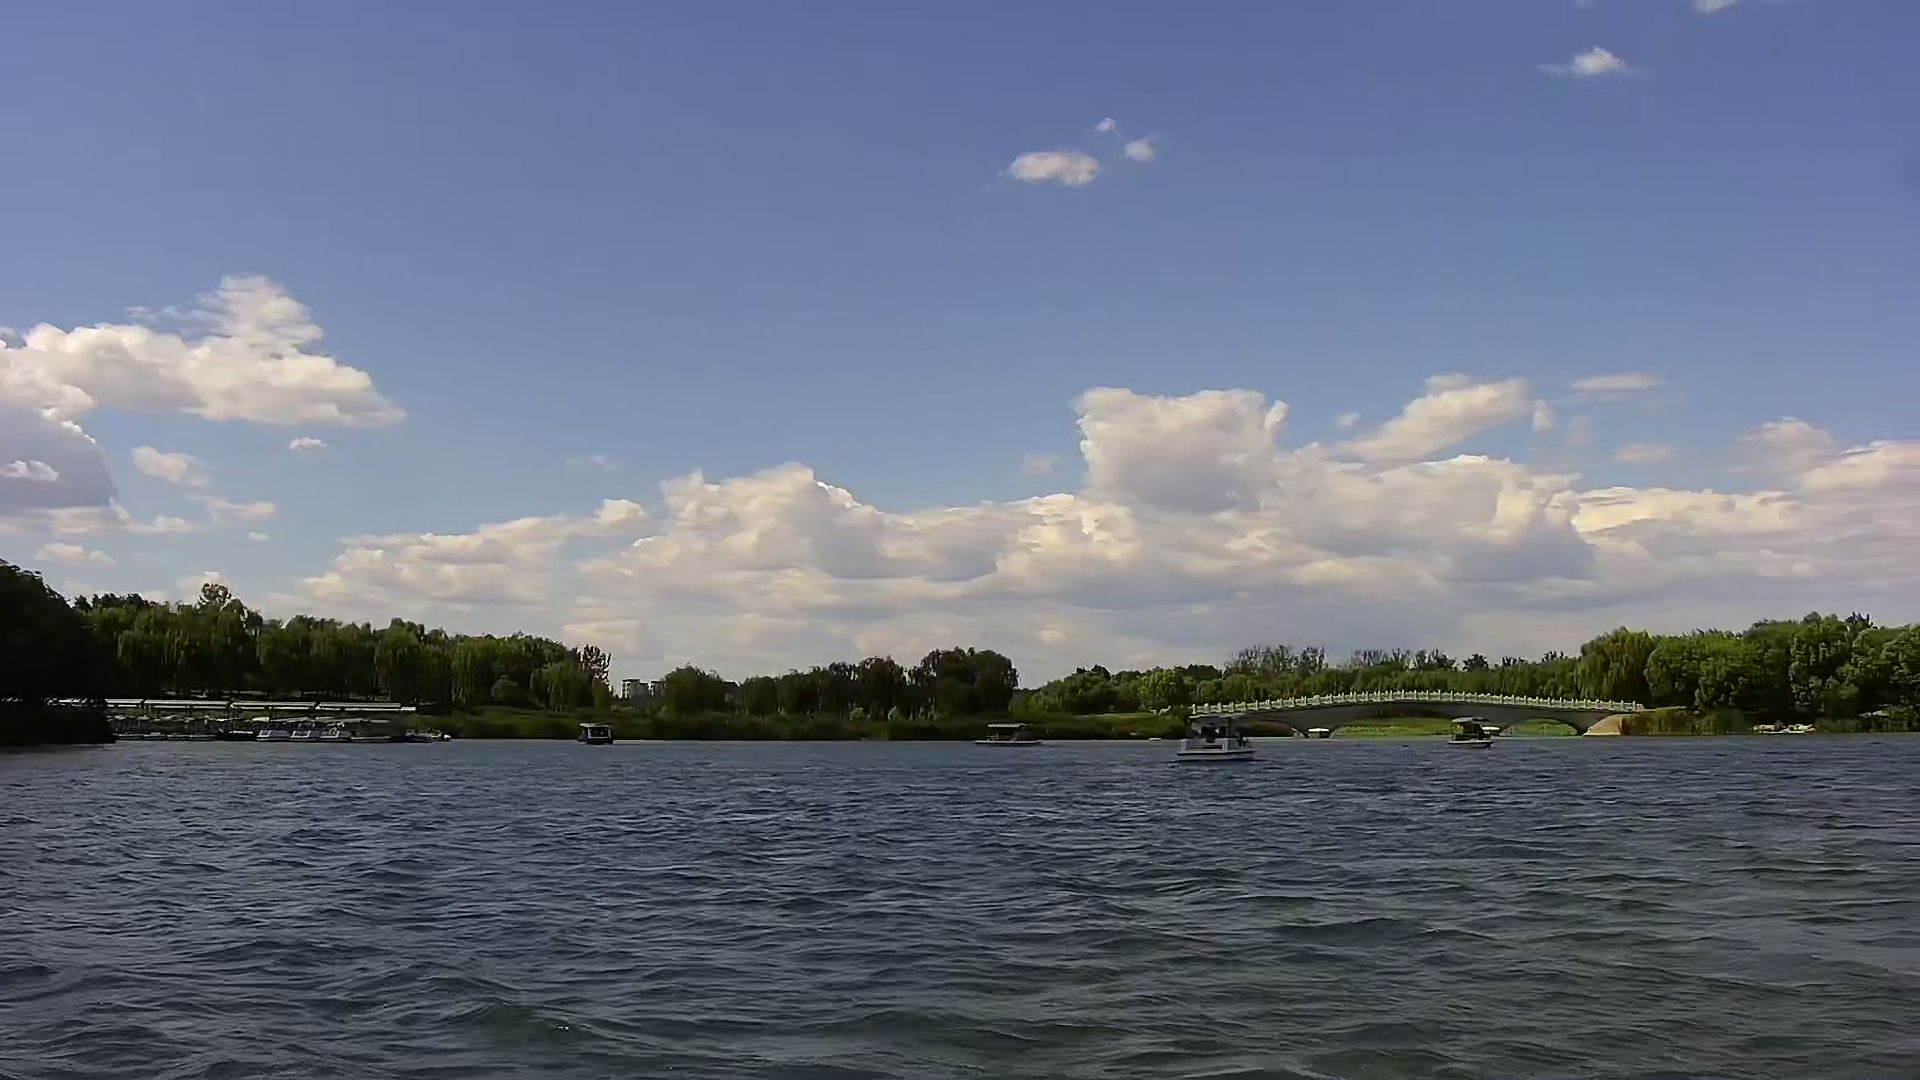boat: (1166, 717, 1283, 769), (1443, 713, 1511, 756), (977, 712, 1048, 750), (564, 720, 625, 752)
bridge: (1187, 686, 1643, 740)
